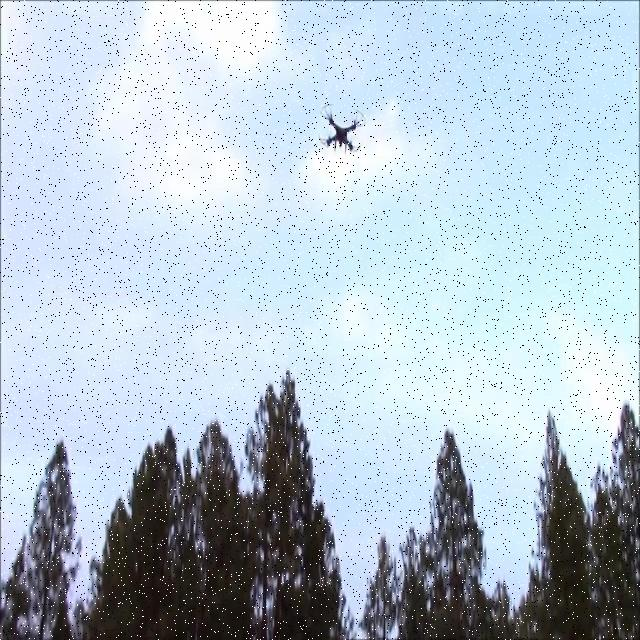UAV: (318, 104, 366, 156)
